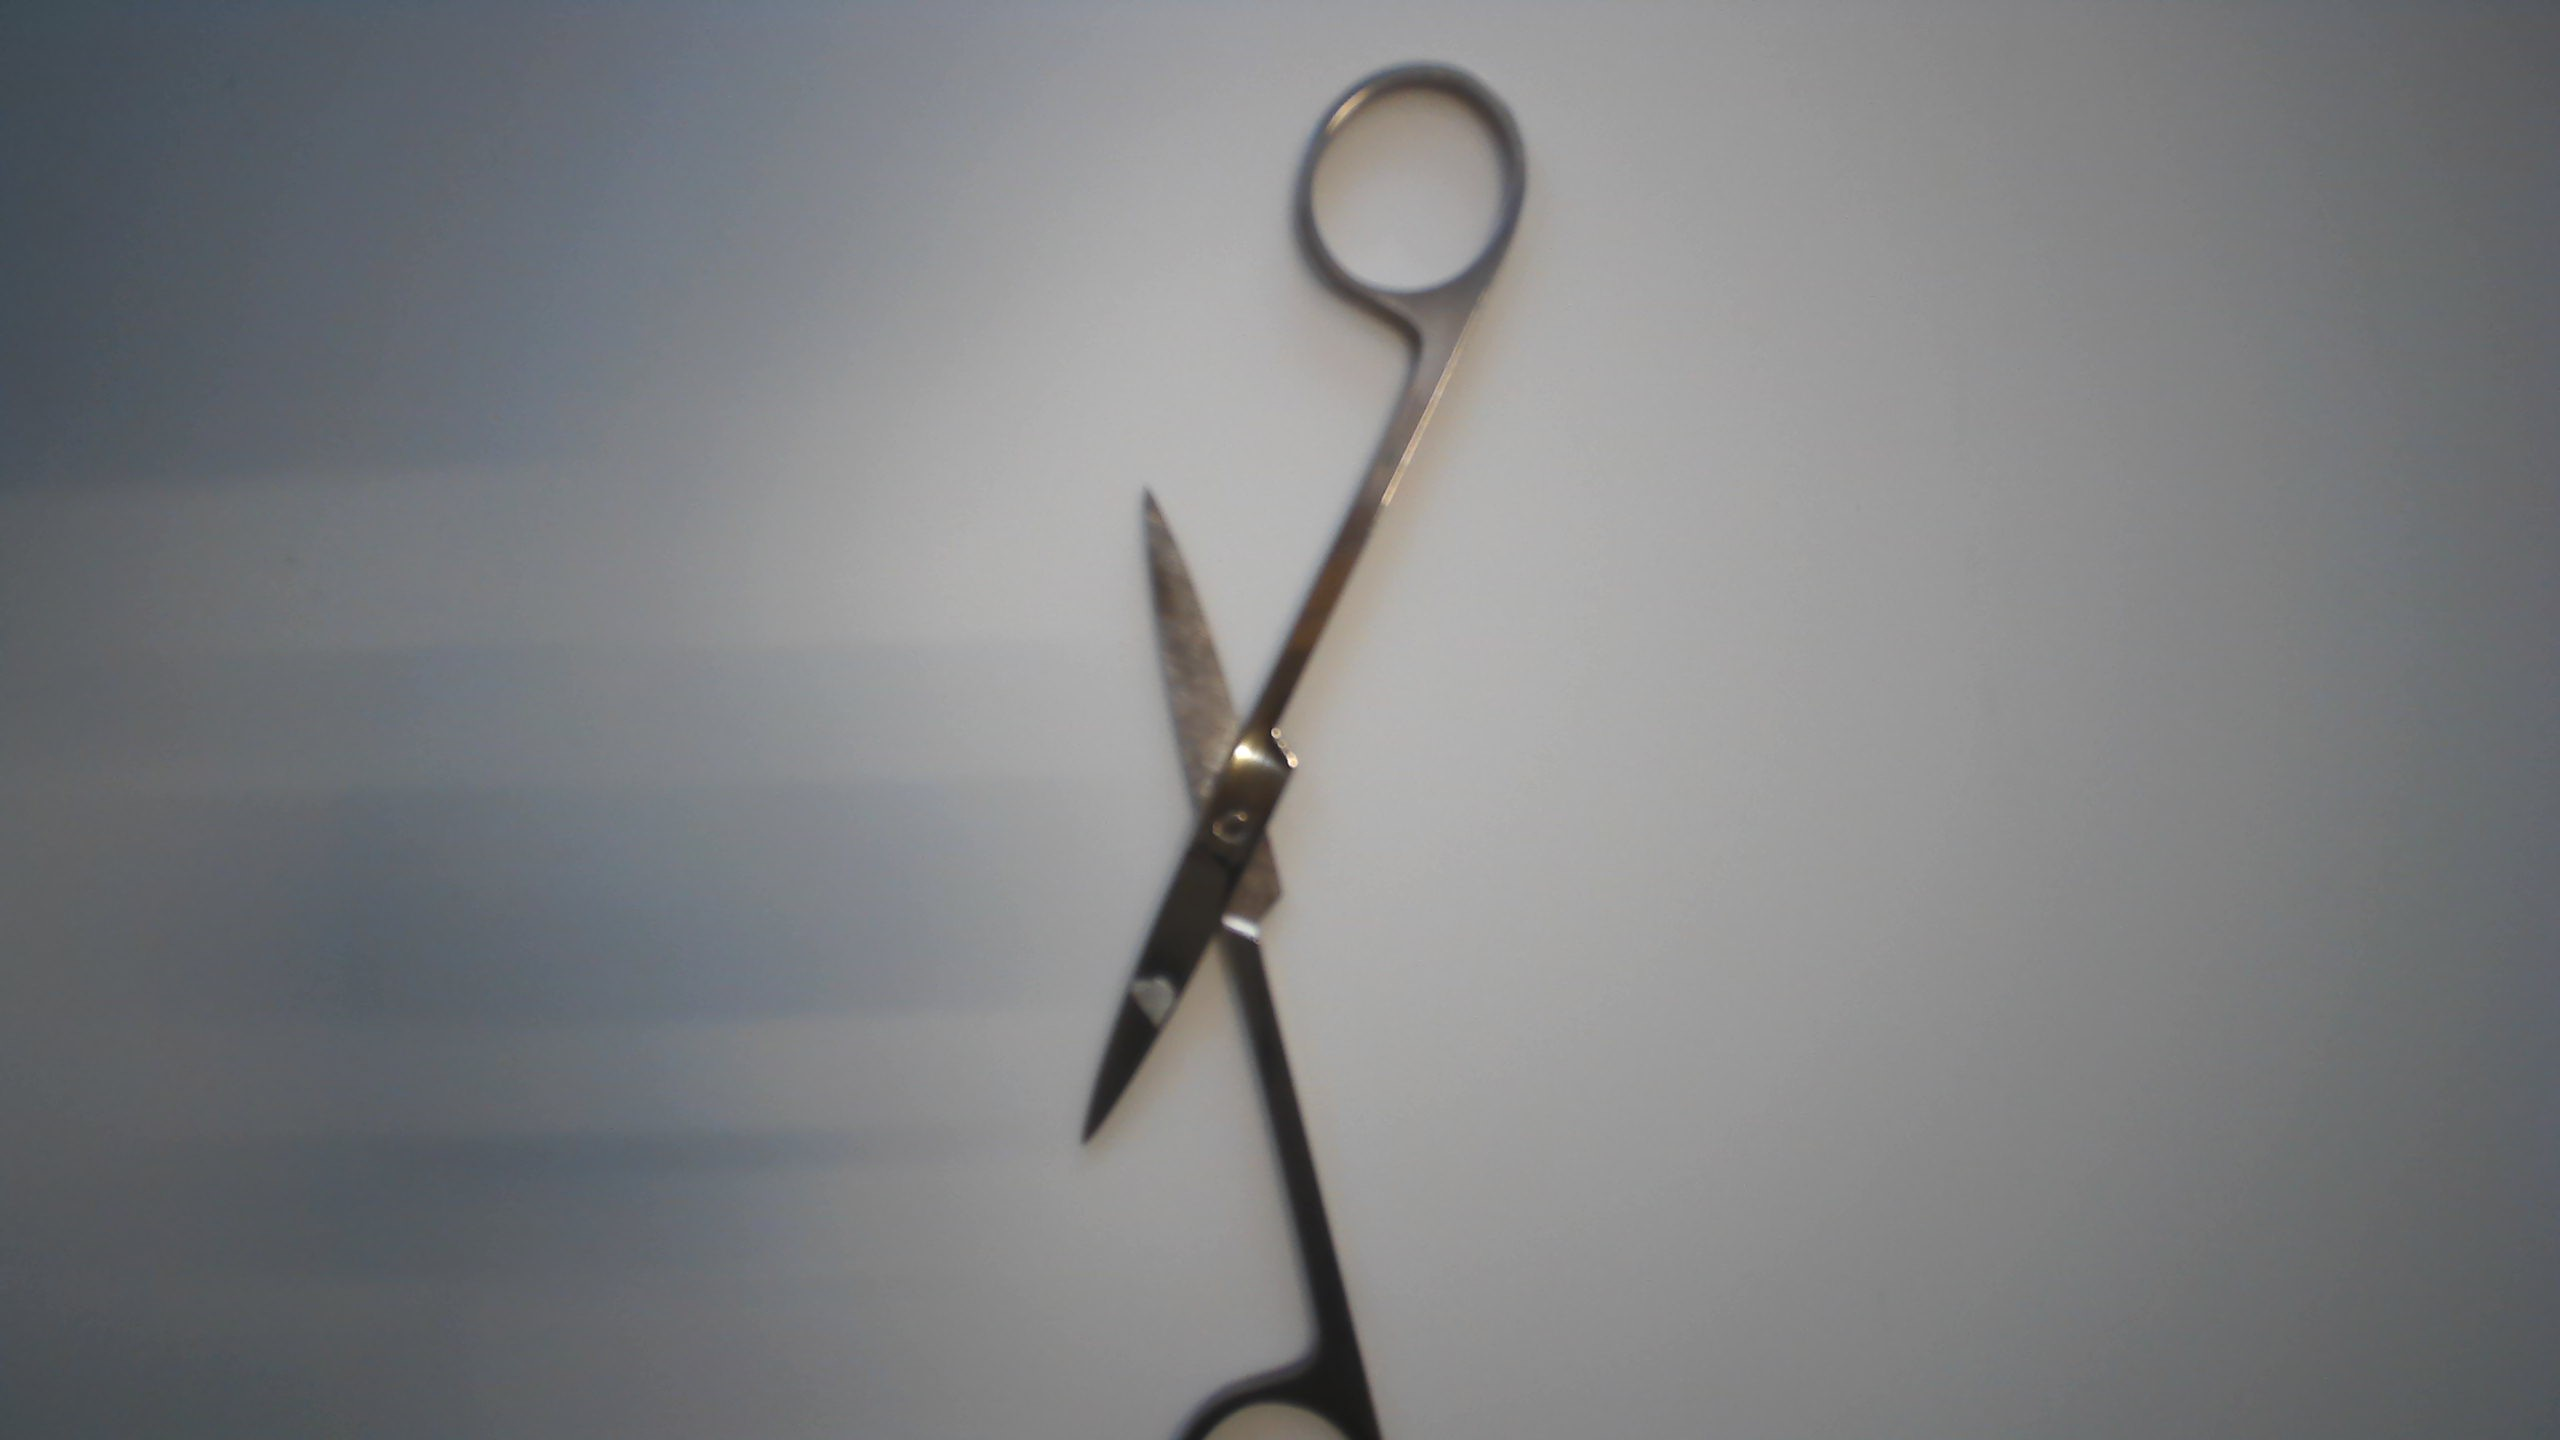Tissues: (1125, 973, 1186, 1028)
